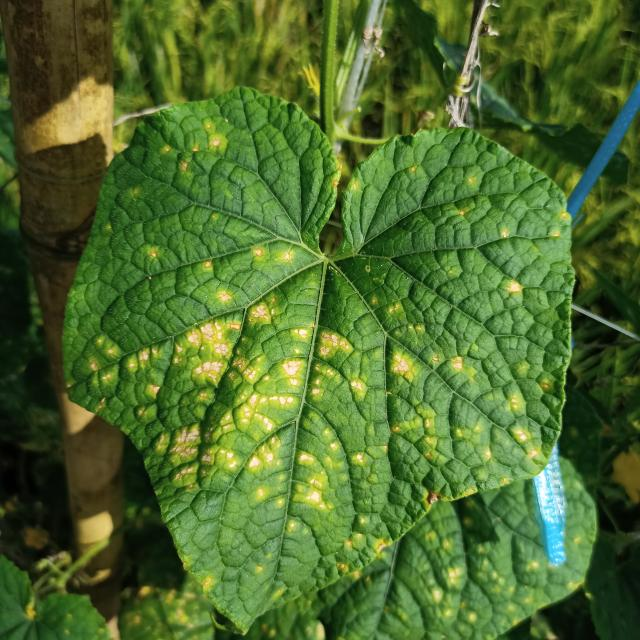disease_cucumber: (98, 119, 543, 565)
